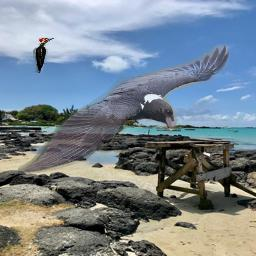Crow: (18, 44, 230, 176)
Woodpecker: (33, 37, 56, 73)
